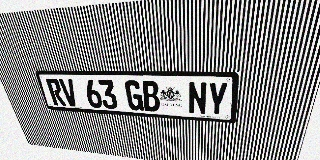3: (98, 80, 118, 109)
6: (83, 79, 103, 108)
B: (141, 81, 160, 112)
G: (124, 80, 144, 111)
N: (188, 82, 207, 115)
R: (45, 79, 66, 106)
V: (58, 79, 79, 107)
Y: (207, 82, 228, 116)
